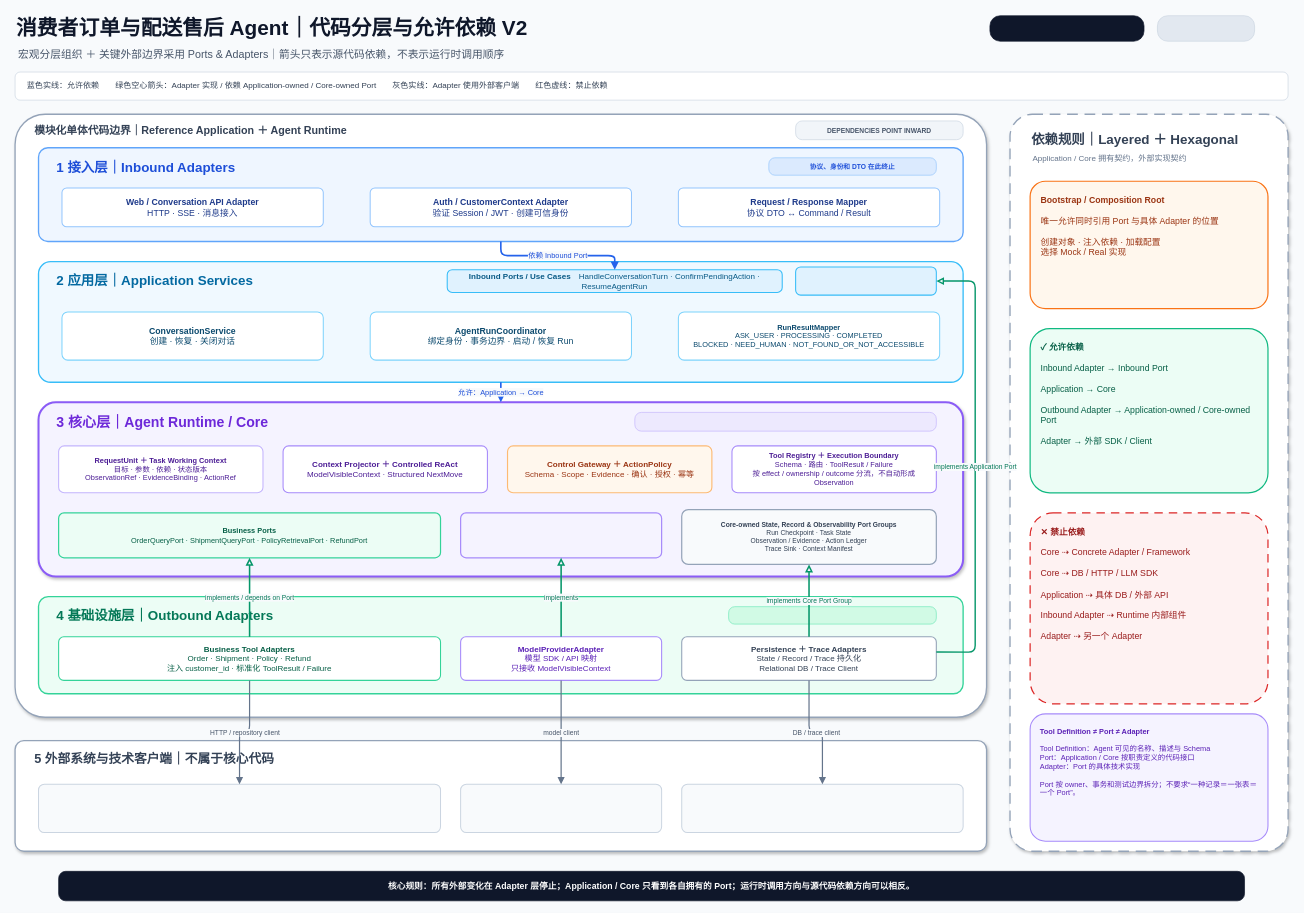
The diagram is 1304 pixels wide and 913 high, and some of its shapes have lost their labels. Here are the shapes that lost their labels. From the top down, the centre of each, then its label:
(1066,28): CODE DEPENDENCIES ONLY
(1206,28): V2 · P0
(866,280): Application-owned Port ConversationStorePort
(785,421): 不依赖 Web · DB · HTTP SDK · LLM SDK · 具体 Adapter
(561,535): ModelPort complete(ModelVisibleContext) → Structured NextMove
(832,615): 实现 Application-owned / Core-owned Port；外部变化在这里终止
(239,808): P0 Mock Business Systems Order · Shipment · Refund · Policy KB / Retriever
(561,808): LLM Provider / SDK 自建或第三方模型服务
(822,808): Relational DB / Trace Backend 权威状态 · 独立记录域 · 恢复 · 数据集与报告
